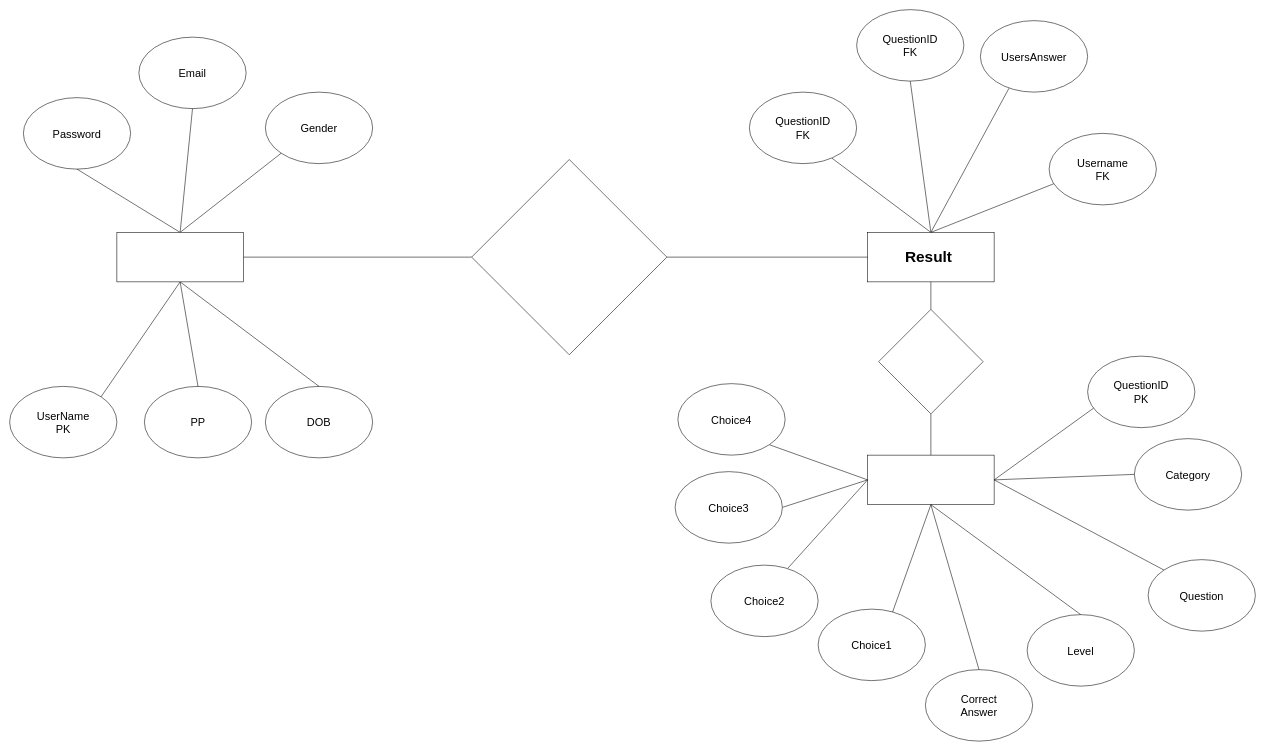
The diagram is 1265 pixels wide and 751 high, and some of its shapes have lost their labels. The shapes that lost their labels are listed below. From the top down, each one's centre as x and y in pixels, then its label:
(x=179, y=257): User
(x=569, y=257): Username
(x=930, y=361): QuestionID
(x=930, y=480): Questions
